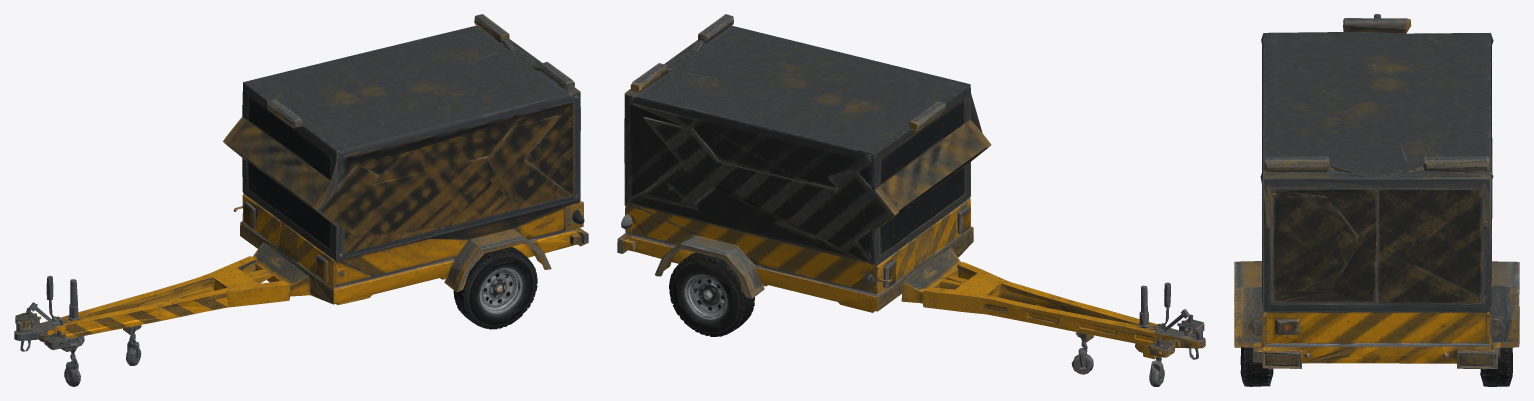
3 views of the same model, side by side, from view 1: azimuth 30°, elevation 25°; view 2: azimuth 150°, elevation 25°; view 3: azimuth 270°, elevation 25° (orthographic). The views are drawn at different scales.
Size of the model in its own units: 1.9 by 0.7724 by 0.7377.
Materials: 1 (1 with a texture image).
